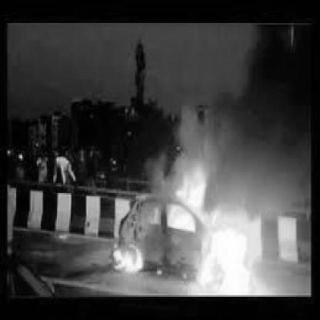Fire: (110, 235, 149, 271)
